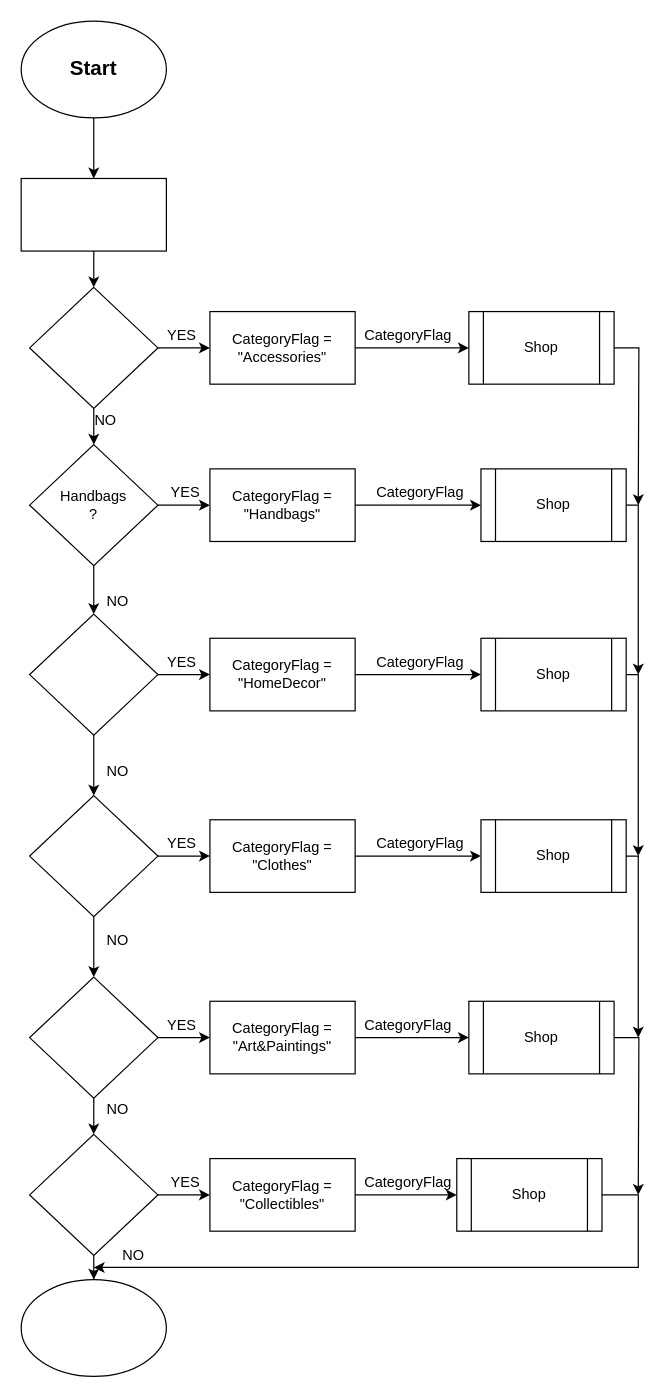
This 670x1398 diagram has some shape labels left out. Here are the shapes that lost their labels. From the top down, the box of each, then its label:
(20, 177, 166, 251): Set CategoryFlag = null
(28, 286, 158, 408): Accessories ?
(28, 613, 158, 735): Home Decor ?
(28, 794, 158, 917): Clothes ?
(28, 976, 158, 1098): Art & Paintings
(28, 1133, 158, 1255): Collectibles
(20, 1278, 166, 1376): END
